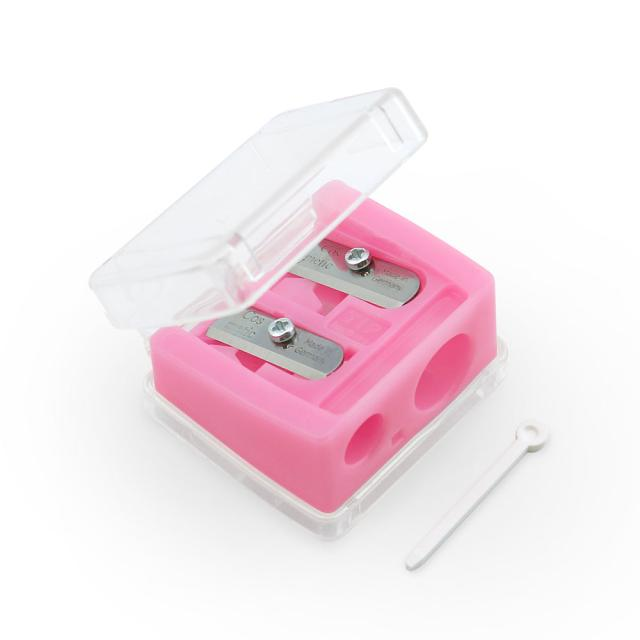pencil_sharpener: (72, 90, 575, 555)
